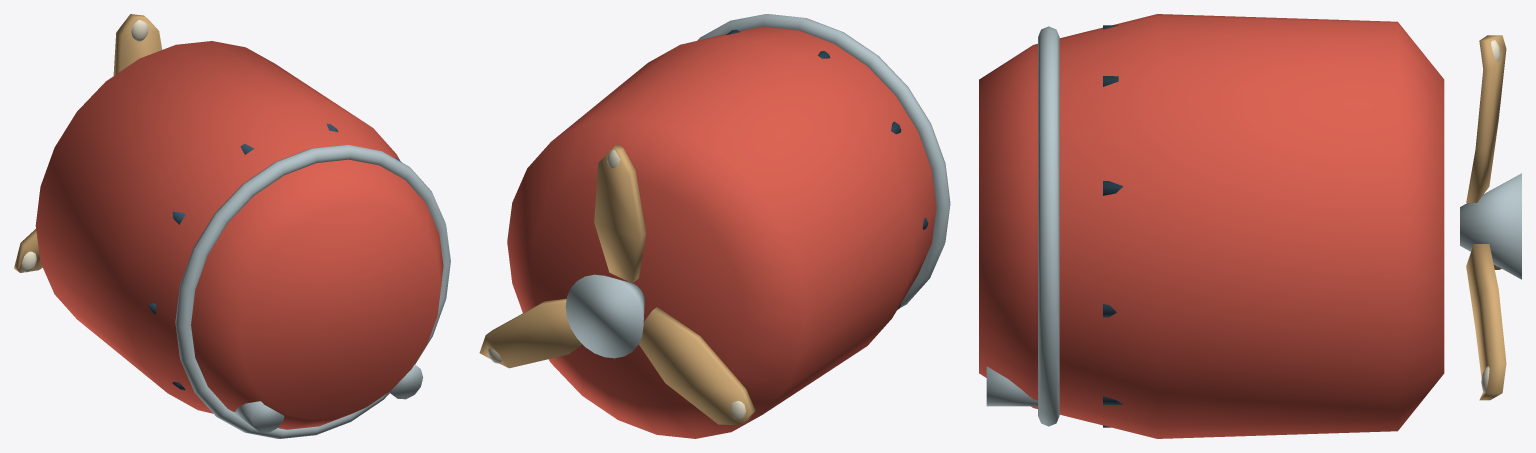
The model's file is motor.glb.
3 renders of one model, left to right at view 1: azimuth 30°, elevation 25°; view 2: azimuth 150°, elevation 25°; view 3: azimuth 270°, elevation 25°, orthographic. The views are drawn at different scales.
Parts seen in each view (by area): view 1: motor_Paint, motor_Aluminium, Propeller_WoodLight, Propeller_Ivory; view 2: motor_Paint, Propeller_WoodLight, motor_Aluminium, Propeller_Aluminium, Propeller_Ivory; view 3: motor_Paint, motor_Aluminium, Propeller_WoodLight, Propeller_Aluminium, motor_Navy.
Boxes of the visible parts, x1,y1,x2,y2 form: motor_Paint: [35, 41, 443, 429]; motor_Aluminium: [175, 145, 450, 438]; Propeller_WoodLight: [14, 14, 162, 272]; Propeller_Ivory: [21, 20, 148, 272]; motor_Paint: [507, 26, 936, 438]; Propeller_WoodLight: [479, 144, 755, 425]; motor_Aluminium: [697, 14, 950, 307]; Propeller_Aluminium: [565, 274, 644, 358]; Propeller_Ivory: [487, 149, 745, 419]; motor_Paint: [979, 14, 1444, 438]; motor_Aluminium: [986, 26, 1059, 426]; Propeller_WoodLight: [1466, 35, 1506, 400]; Propeller_Aluminium: [1460, 173, 1521, 279]; motor_Navy: [1103, 25, 1122, 427].
Size of the model in its own units: 0.55 by 0.55 by 0.7.
